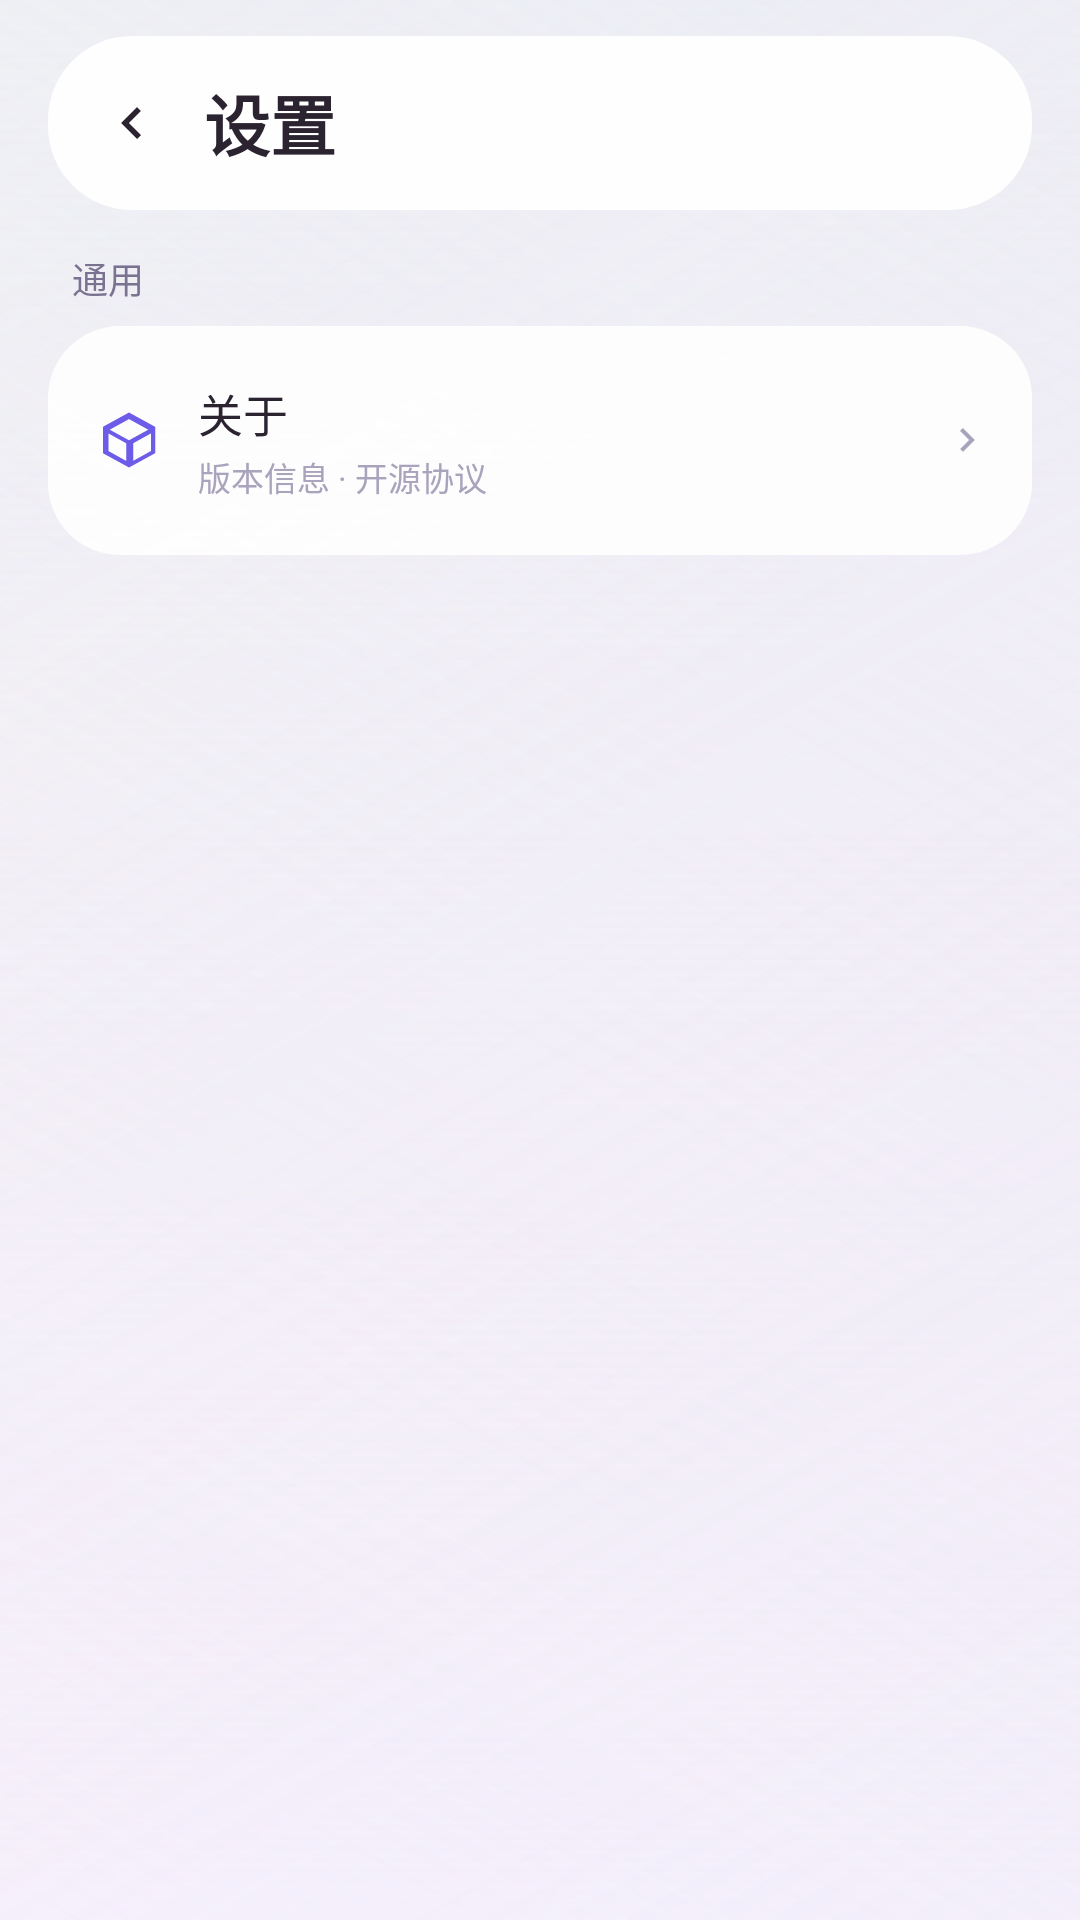

Screen size 1080*1920. Icon name, then its center in pixels as [x,y]:
box: [129,440]
chevron right: [967,440]
